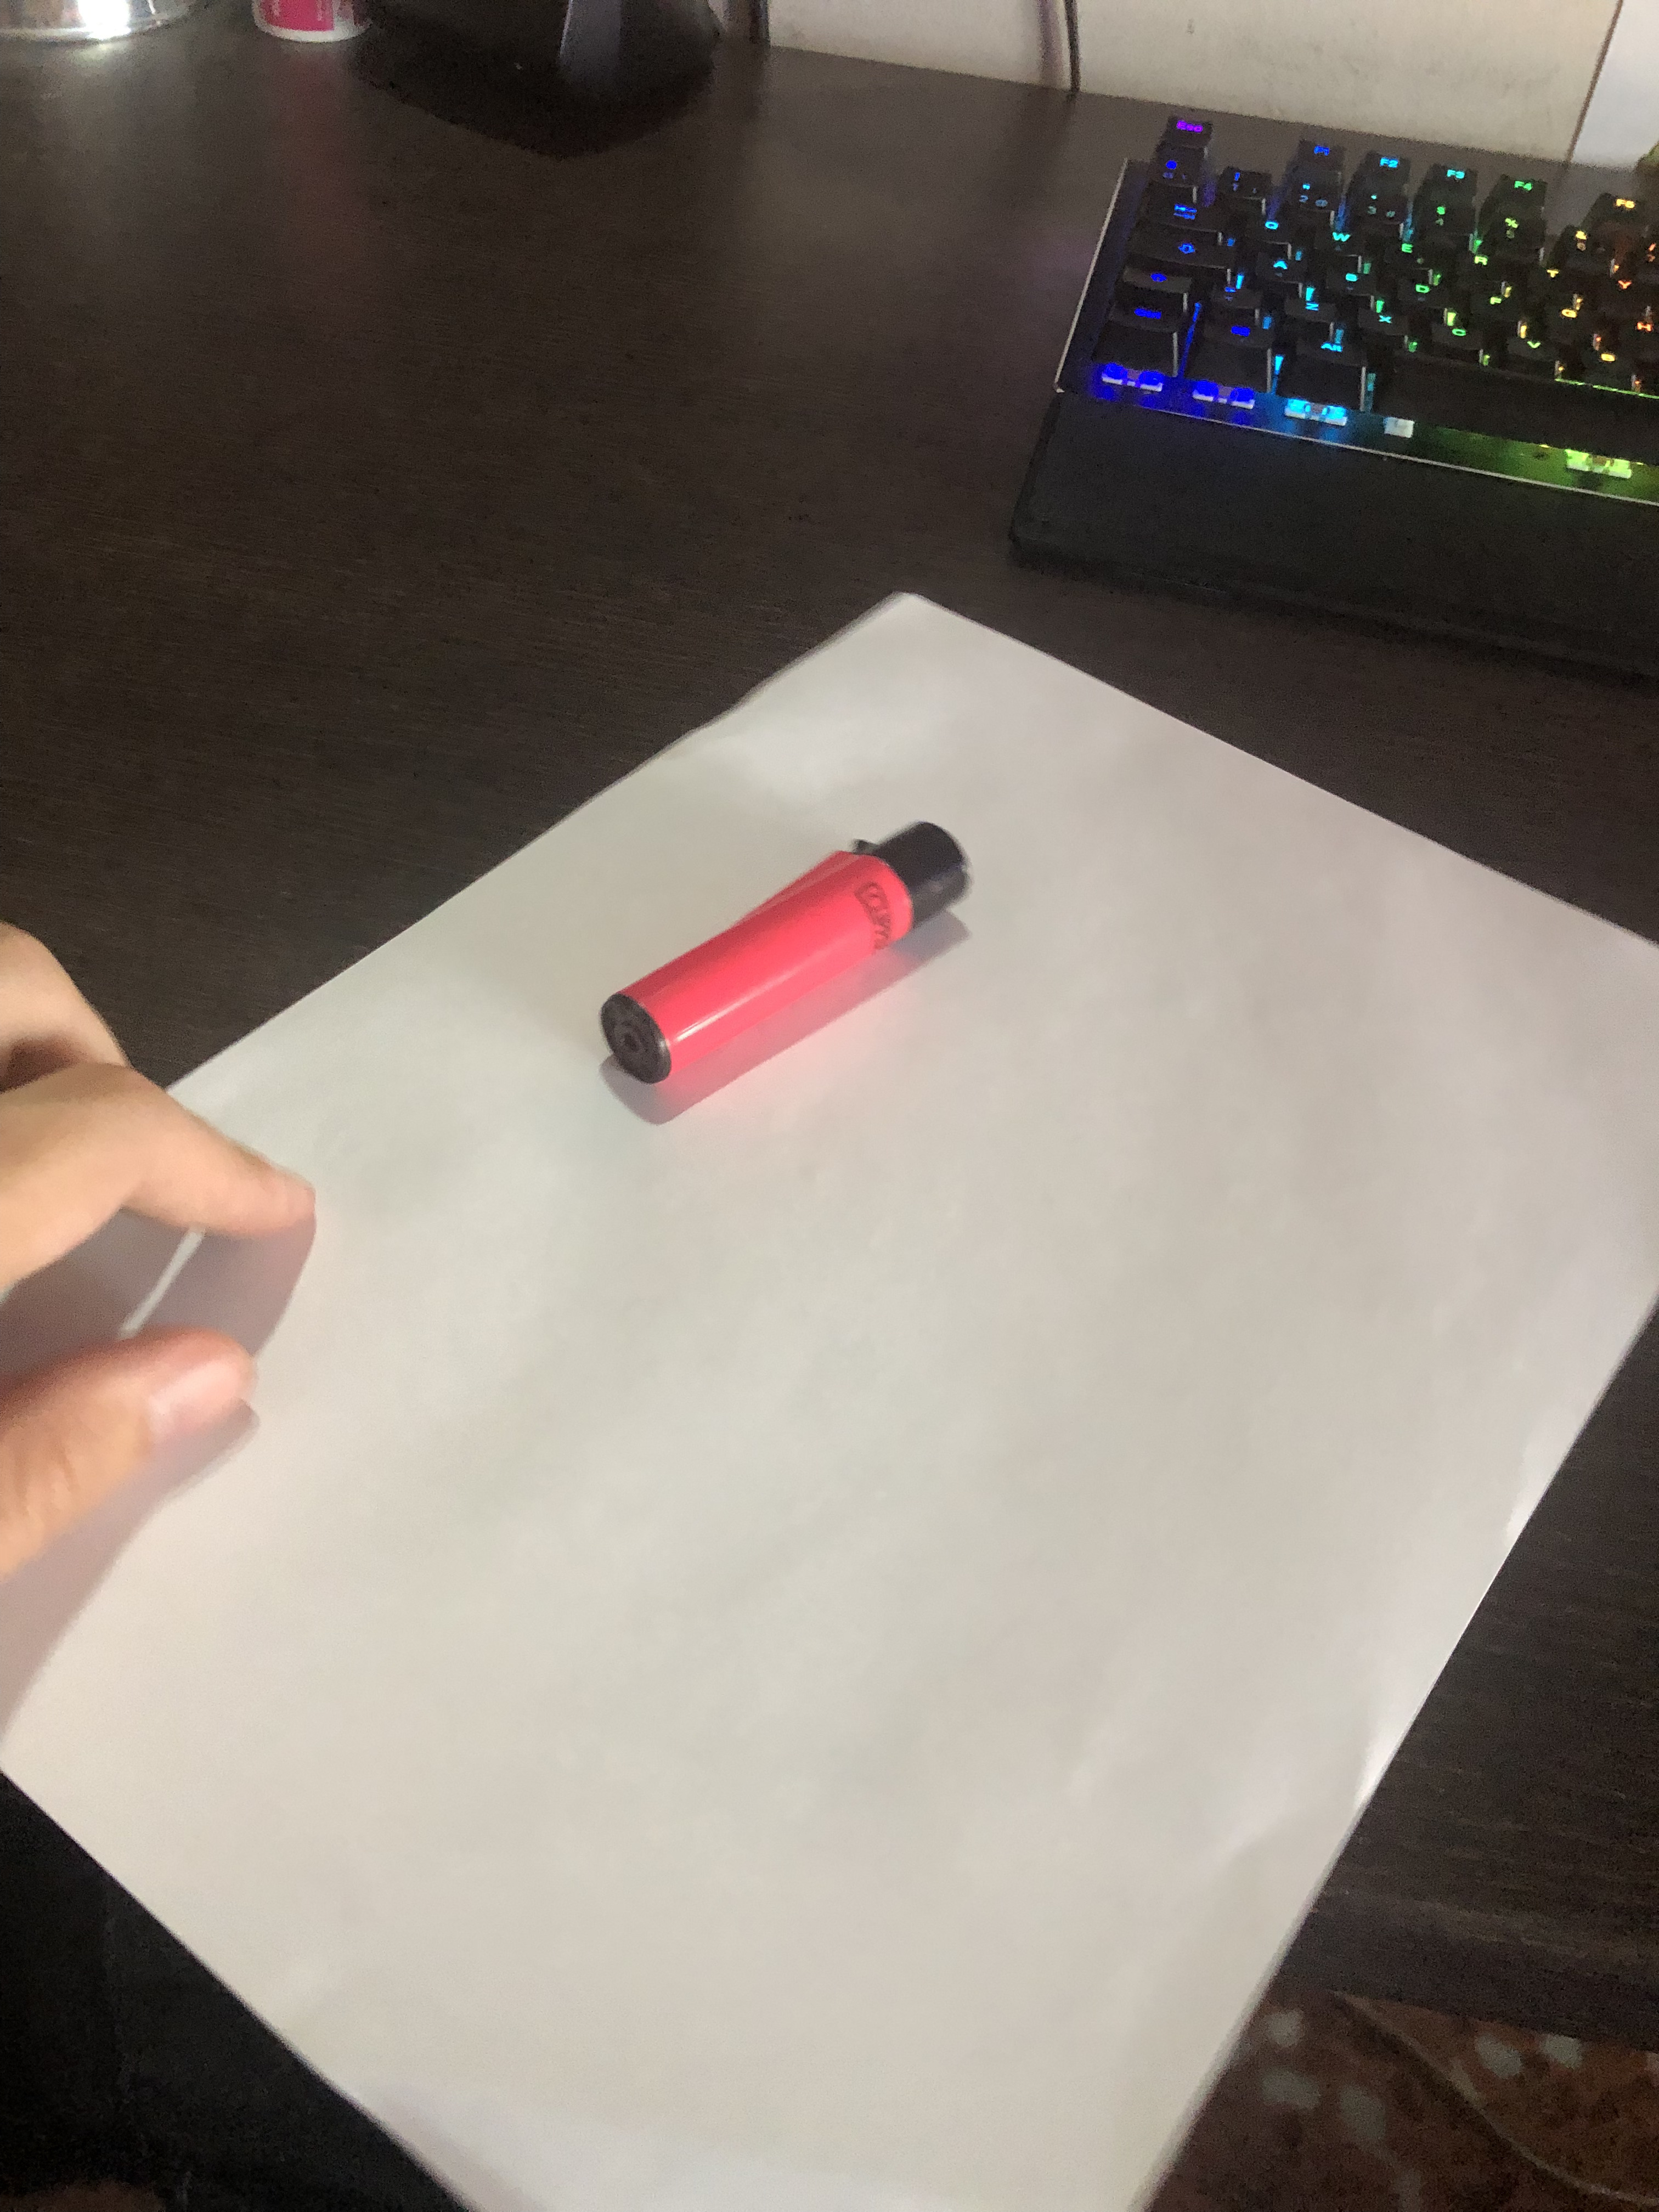Mechero: (598, 789, 971, 1118)
